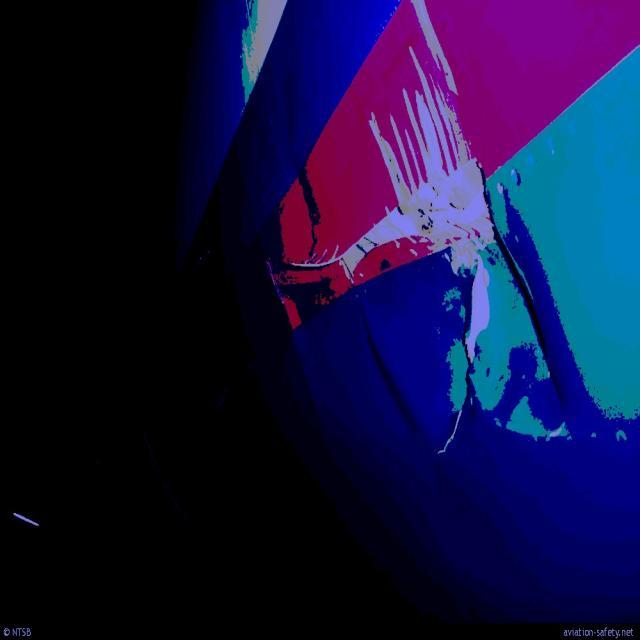crack: (445, 283, 477, 450)
